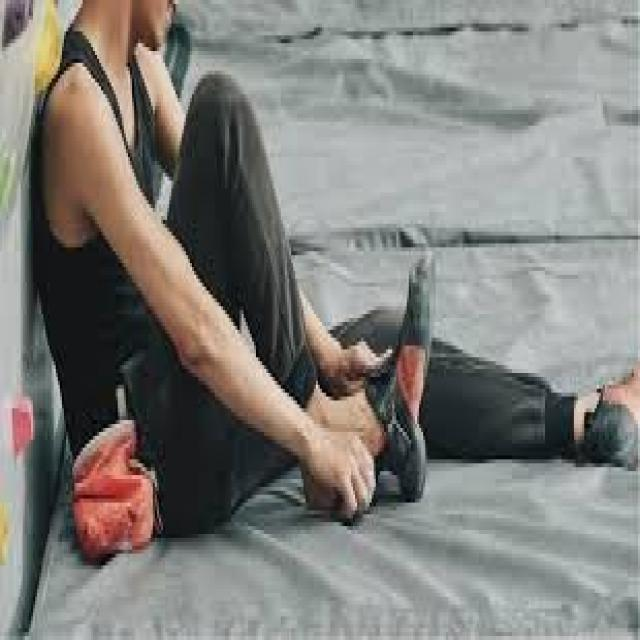climbing-shoes: (379, 256, 437, 500), (582, 370, 640, 468)
